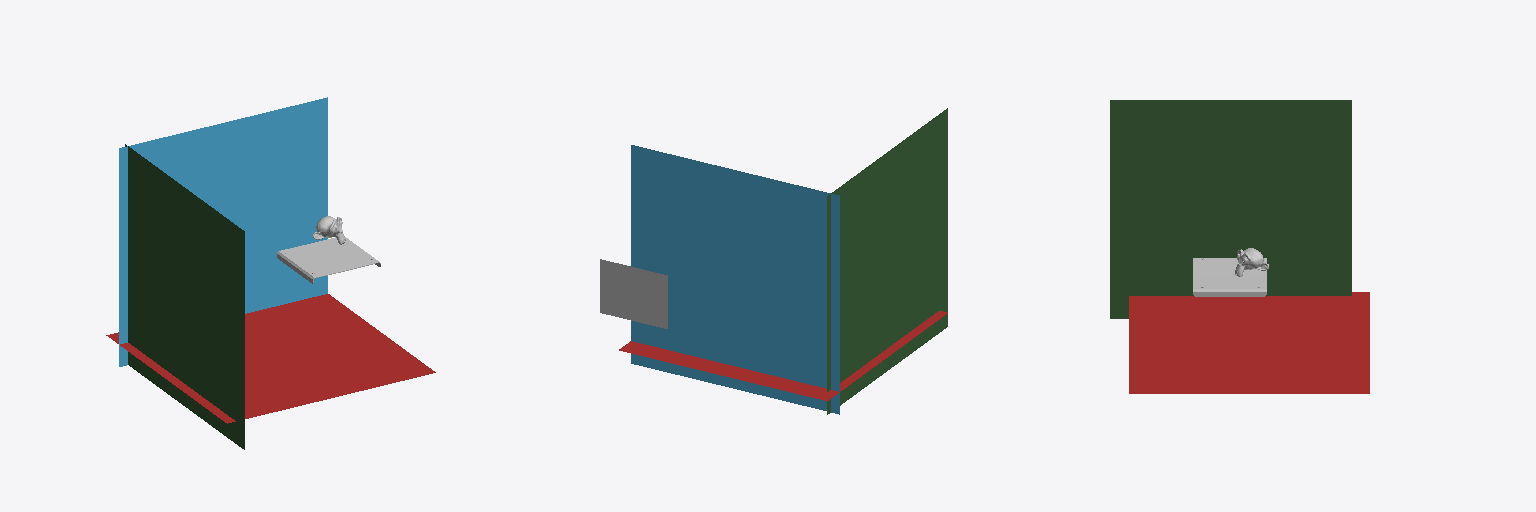
Rendered from PrintrBot.obj.
3 views of the same model, side by side, from view 1: azimuth 30°, elevation 25°; view 2: azimuth 150°, elevation 25°; view 3: azimuth 270°, elevation 25° (orthographic).
Visible parts, largest first — view 1: Plane.001_Plane.002, Plane.002_Plane.003, Plane.004_Plane.005, Plane, Suzanne; view 2: Plane.002_Plane.003, Plane.001_Plane.002, printrbotfront, Plane.004_Plane.005; view 3: Plane.001_Plane.002, Plane.004_Plane.005, Plane, Suzanne.
Part boxes in pixels (left/top/right/bottom): Plane.001_Plane.002: left=125, top=144, right=244, bottom=449; Plane.002_Plane.003: left=119, top=97, right=327, bottom=366; Plane.004_Plane.005: left=106, top=294, right=435, bottom=423; Plane: left=277, top=237, right=380, bottom=283; Suzanne: left=313, top=216, right=345, bottom=244; Plane.002_Plane.003: left=631, top=145, right=839, bottom=414; Plane.001_Plane.002: left=827, top=108, right=947, bottom=414; printrbotfront: left=600, top=259, right=667, bottom=328; Plane.004_Plane.005: left=619, top=311, right=947, bottom=400; Plane.001_Plane.002: left=1110, top=100, right=1351, bottom=318; Plane.004_Plane.005: left=1129, top=292, right=1369, bottom=393; Plane: left=1193, top=258, right=1266, bottom=296; Suzanne: left=1235, top=248, right=1268, bottom=276.
Bounding box in the file's own units: 6.62 × 6.62 × 9.28.